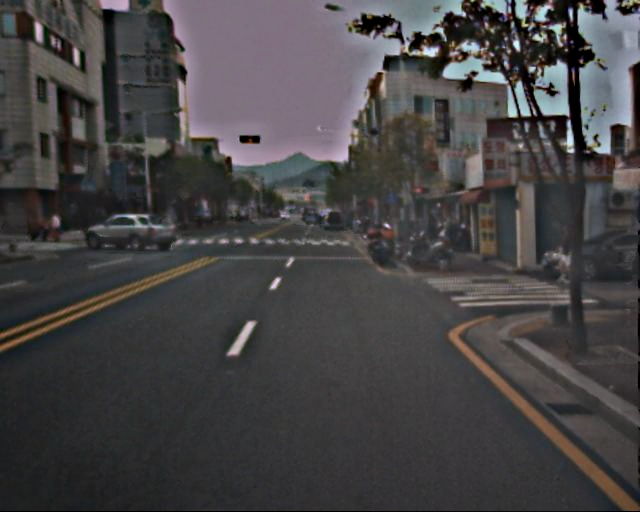person: (550, 224, 577, 288), (623, 230, 640, 321)
